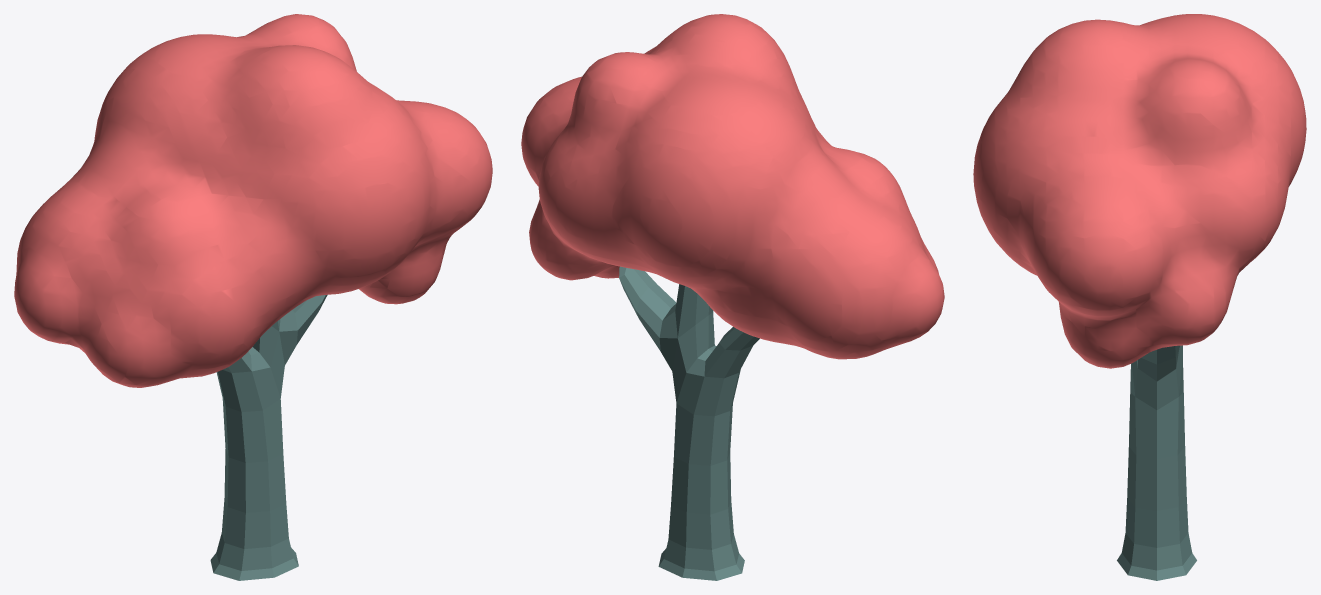
File: tree2.fbx
The picture shows the model from 3 angles, left to right: view 1: azimuth 30°, elevation 25°; view 2: azimuth 150°, elevation 25°; view 3: azimuth 270°, elevation 25°; orthographic projection. The views are drawn at different scales.
Parts seen in each view (by area): view 1: Mball.018, Cube.009; view 2: Mball.018, Cube.009; view 3: Mball.018, Cube.009.
Part boxes in pixels (<box>): Mball.018: <box>14,14,492,387</box>; Cube.009: <box>210,294,327,580</box>; Mball.018: <box>521,14,944,359</box>; Cube.009: <box>619,266,759,580</box>; Mball.018: <box>973,14,1306,368</box>; Cube.009: <box>1117,345,1196,580</box>.
Size of the model in its own units: 361 by 416 by 233.
